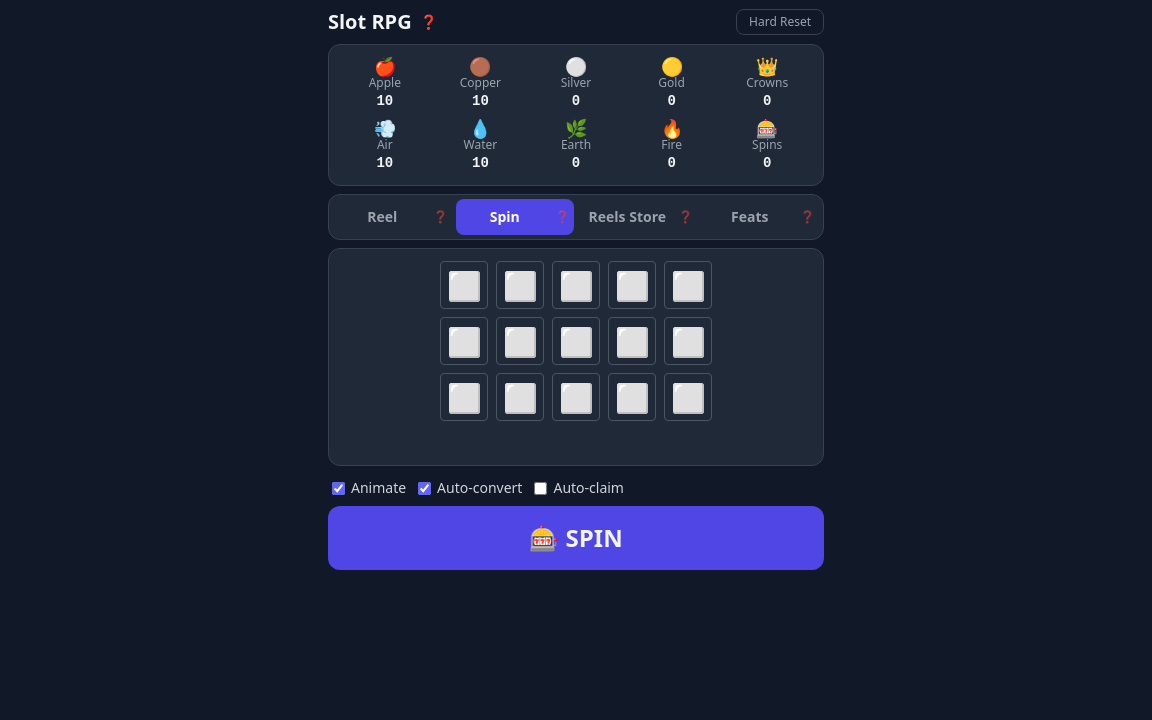
Scenario: full spin flow integration › win modal does NOT appear when crowns reach 100 (win condition removed)
The width and height of the screenshot is (1152, 720).
Click the button with aria-label "Spin the reels".
click(576, 538)  # box top-left (328, 506), bottom-right (824, 570)
Wait 5000 ms
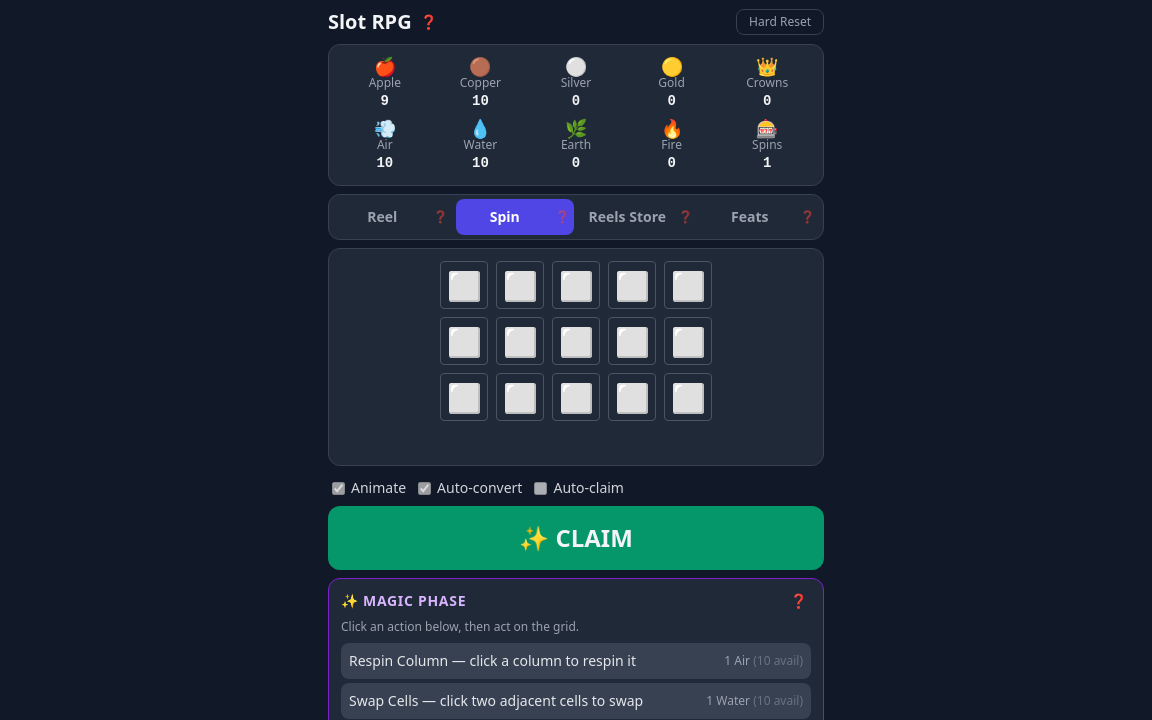
Click the button with aria-label "Claim spin result".
click(576, 538)  # box top-left (328, 506), bottom-right (824, 570)
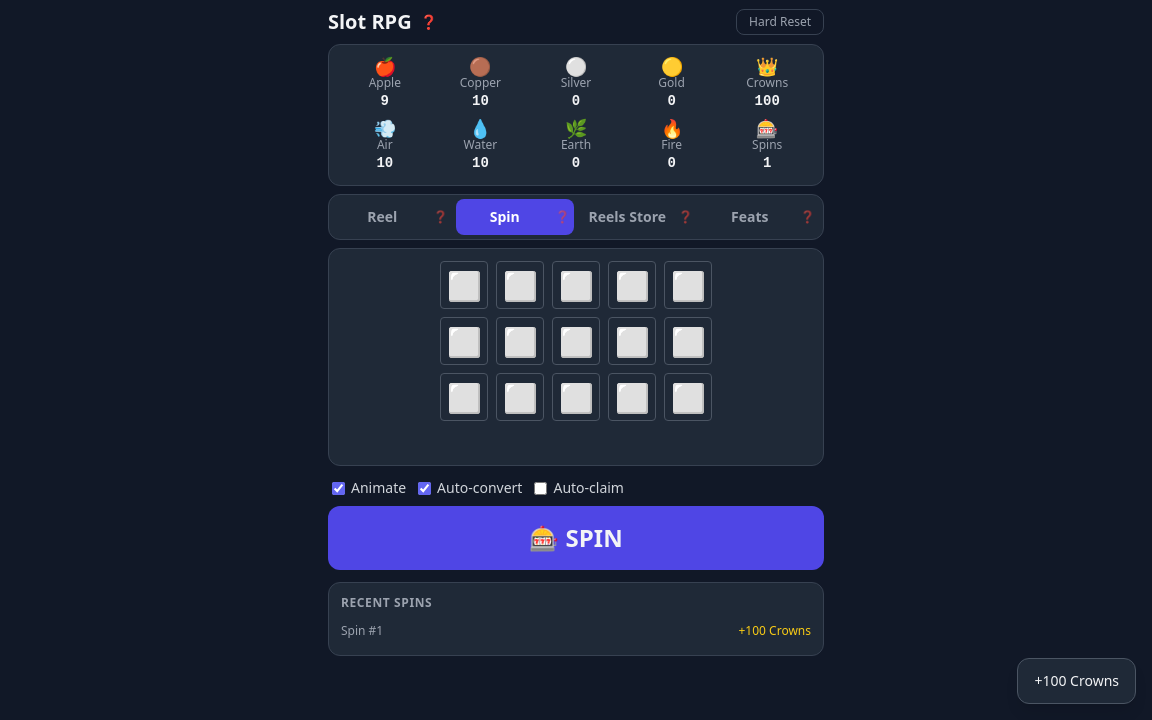
Now the button with aria-label "Spin the reels" is shown, box top-left (328, 506), bottom-right (824, 570)
